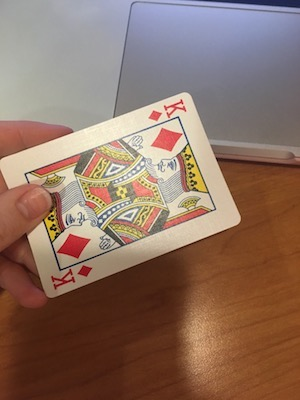KingOfDiamonds: (1, 85, 247, 302)
